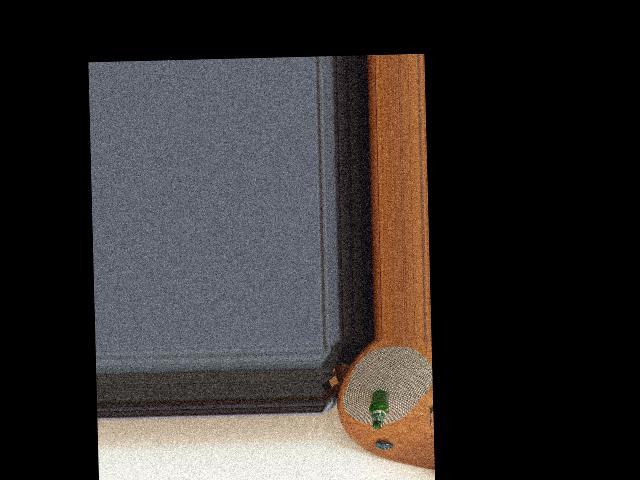beer: (368, 390, 390, 429)
